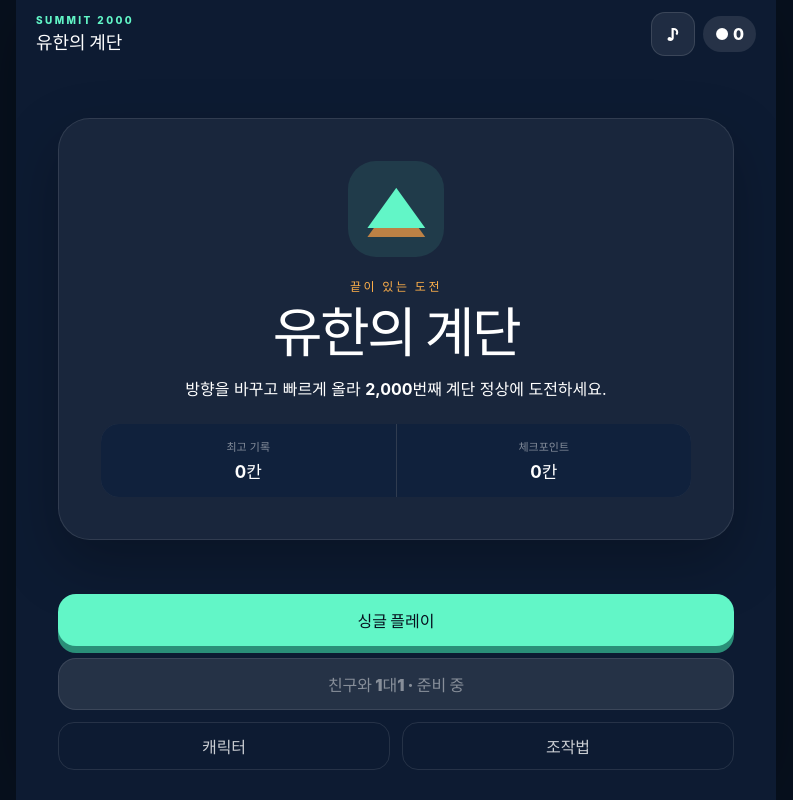
Test: opens character selection and the controls guide
This screenshot has width=793, height=800.
What coordinates should you click on to do the following:
click the button "캐릭터"
I would click on:
 (224, 746)
Its box is 58,722 -> 390,770.
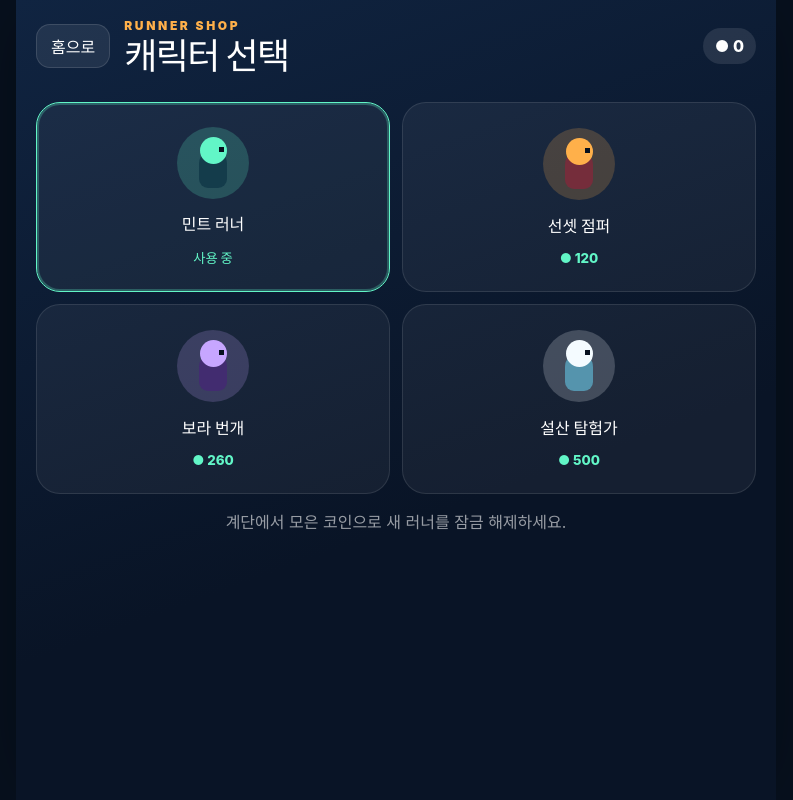
Check: the heading "캐릭터 선택" is shown, box 124,34 -> 289,78
What coordinates should you click on to do the following:
click the button "홈으로"
I would click on:
 (73, 46)
Its box is 36,24 -> 110,68.
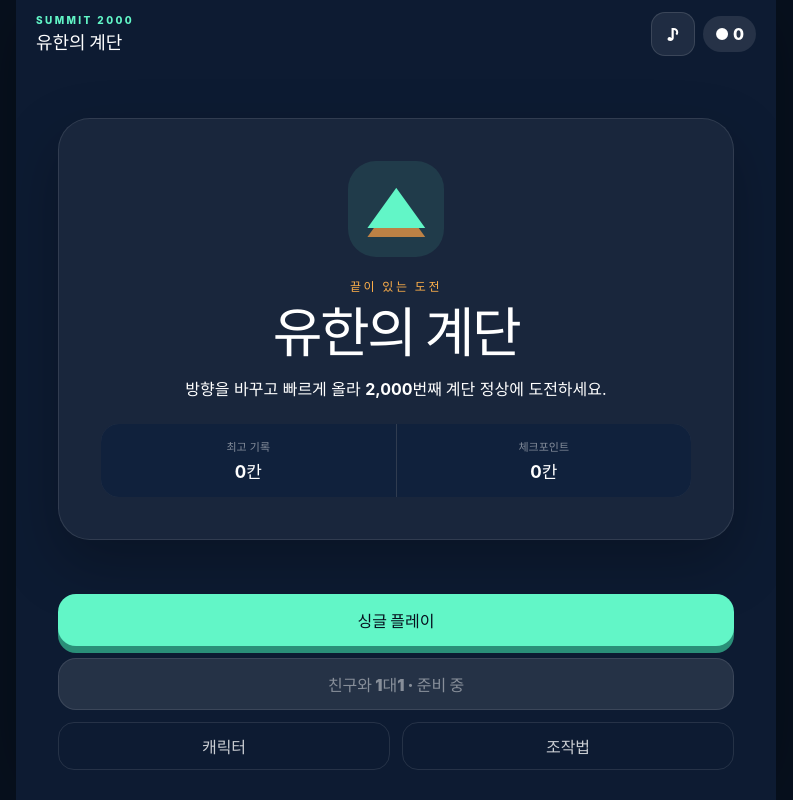
What coordinates should you click on to do the following:
click the button "조작법"
I would click on:
 (568, 746)
Its box is 402,722 -> 734,770.
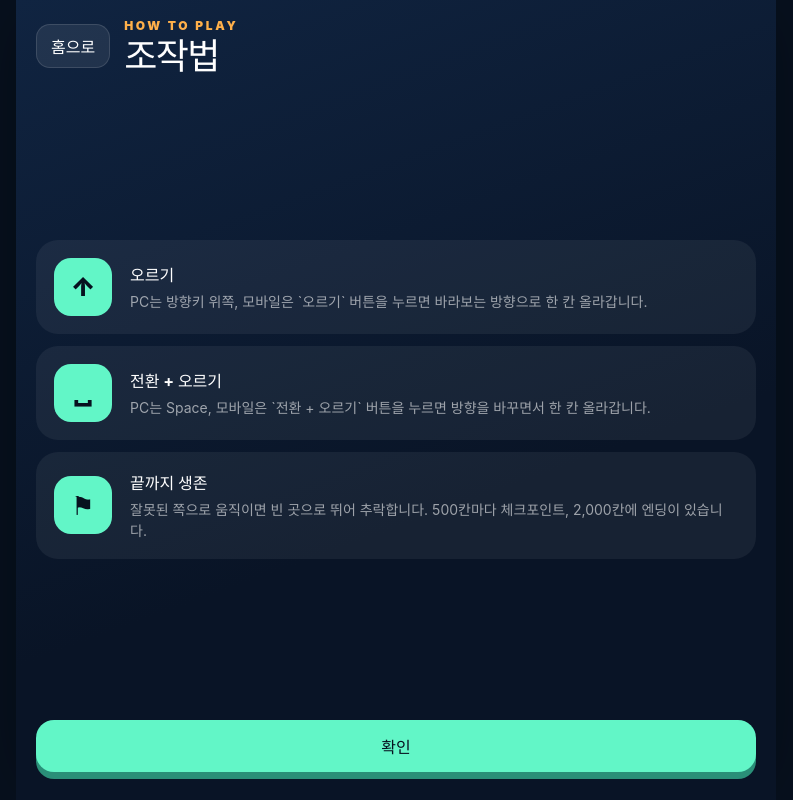
Check: the heading "조작법" is shown, box 124,34 -> 219,78
Check: the text "PC는 Space, 모바일은 `전환 + 오르기` 버튼을 누르면 방향을 바꾸면서 한 칸 올라갑니다." is shown, box 130,396 -> 738,418
